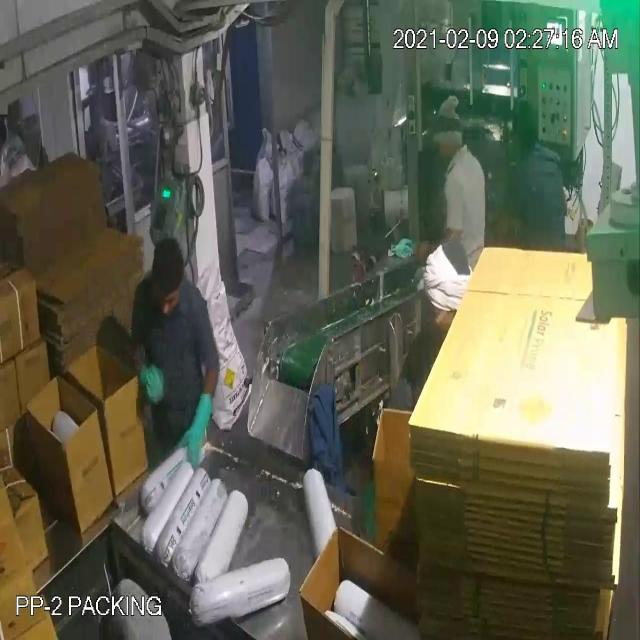gloves: (173, 390, 219, 471), (130, 349, 177, 415)
